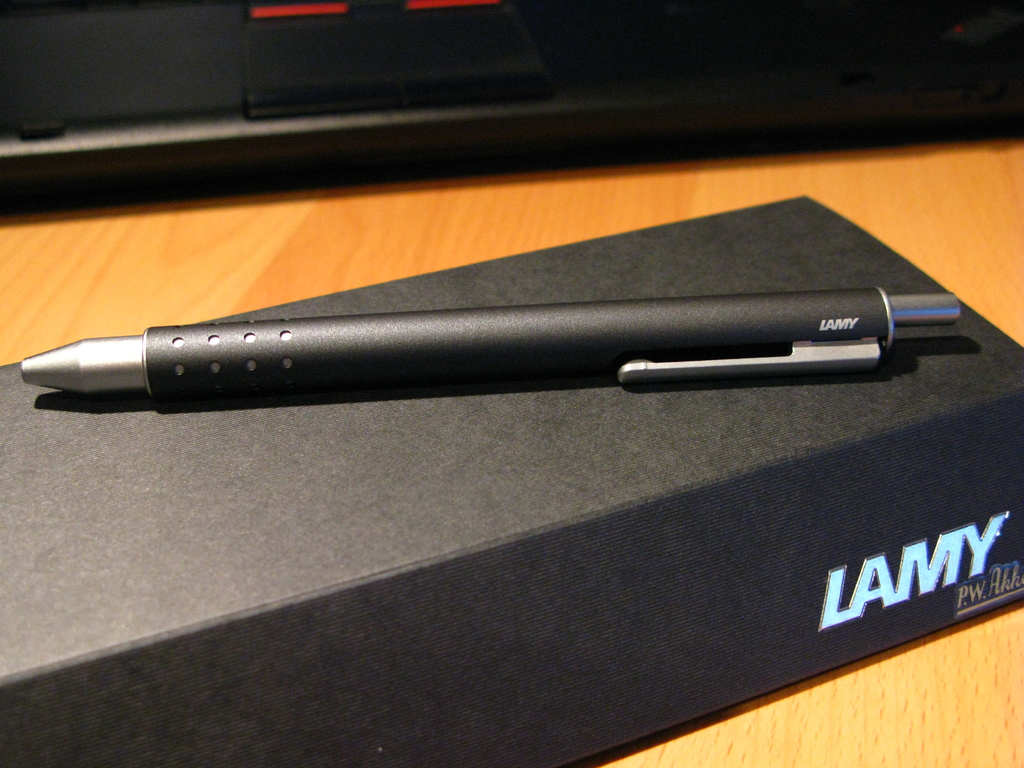Pen: (12, 291, 963, 394)
